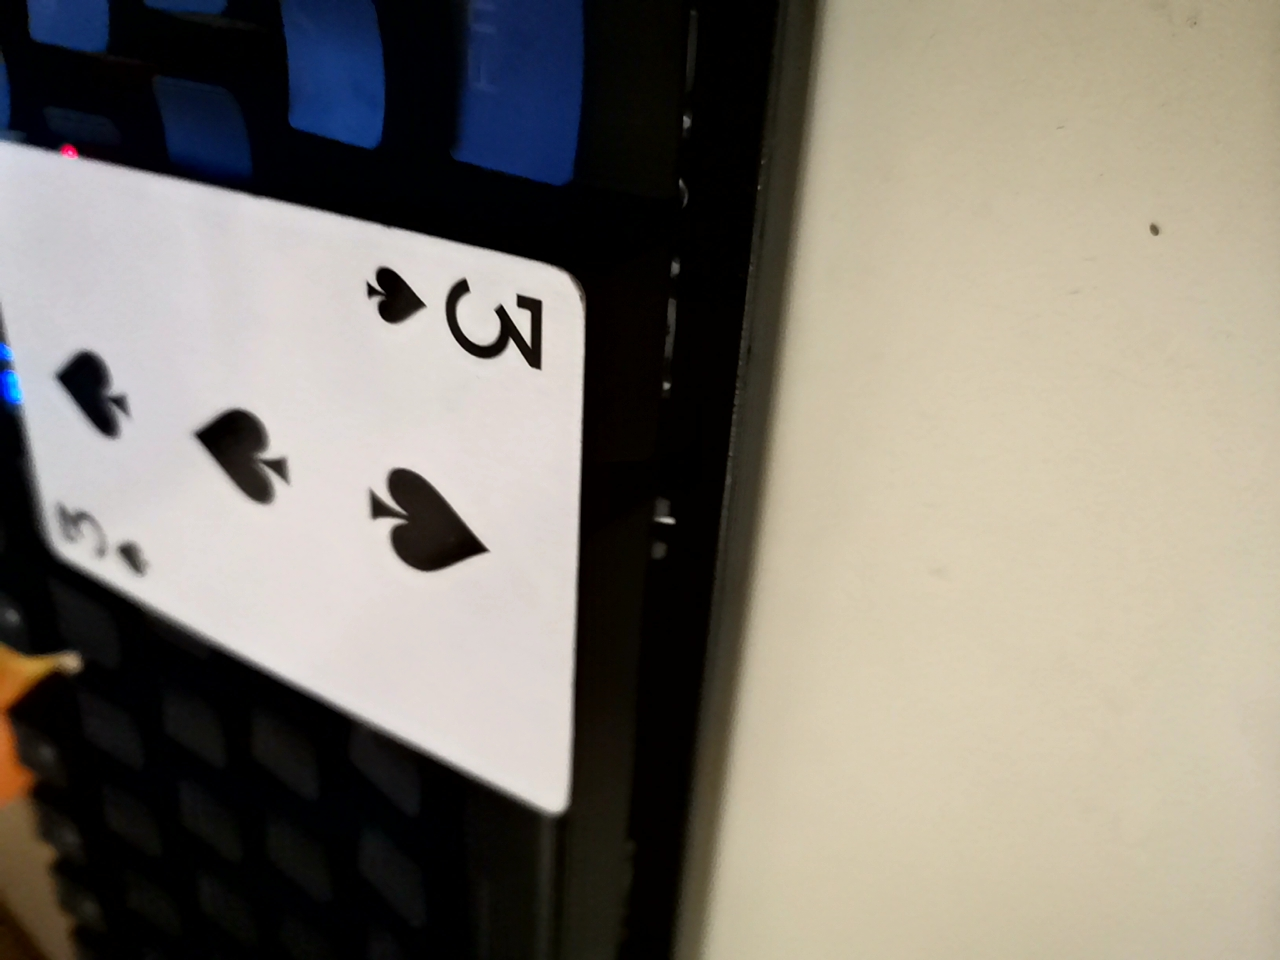ht 3: (3, 92, 599, 791)
